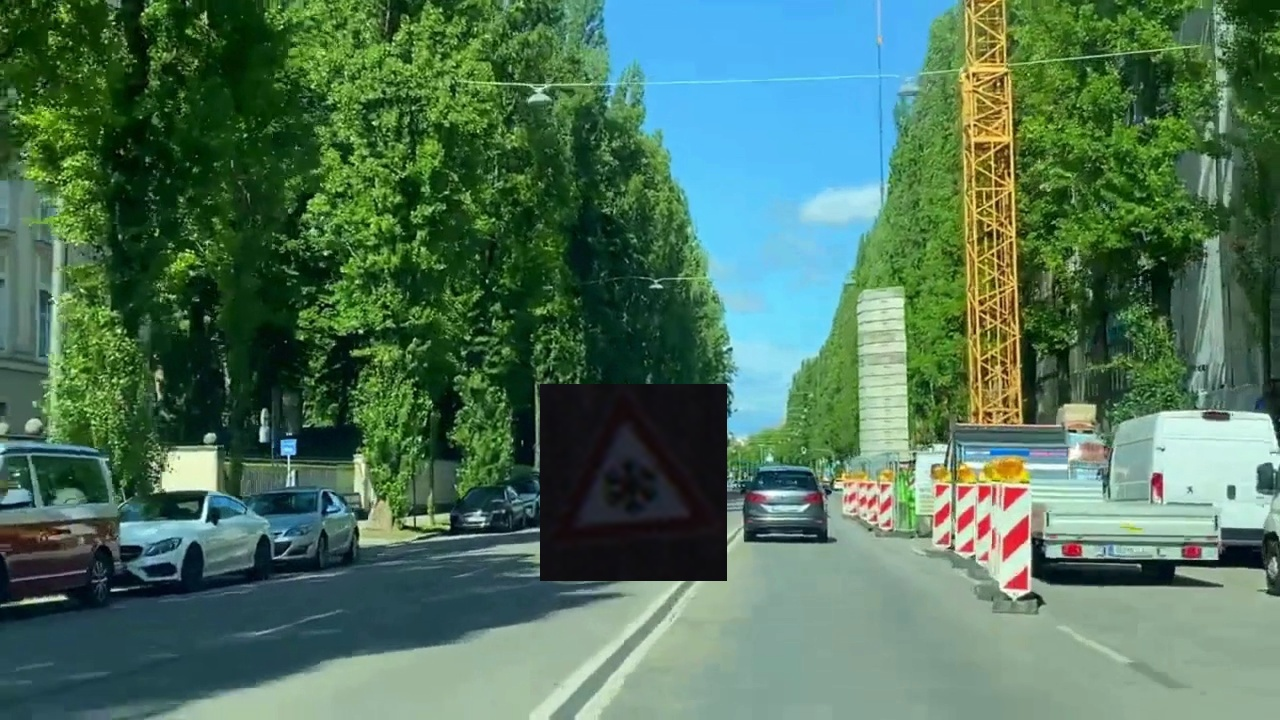Ice/snow: (540, 384, 727, 581)
